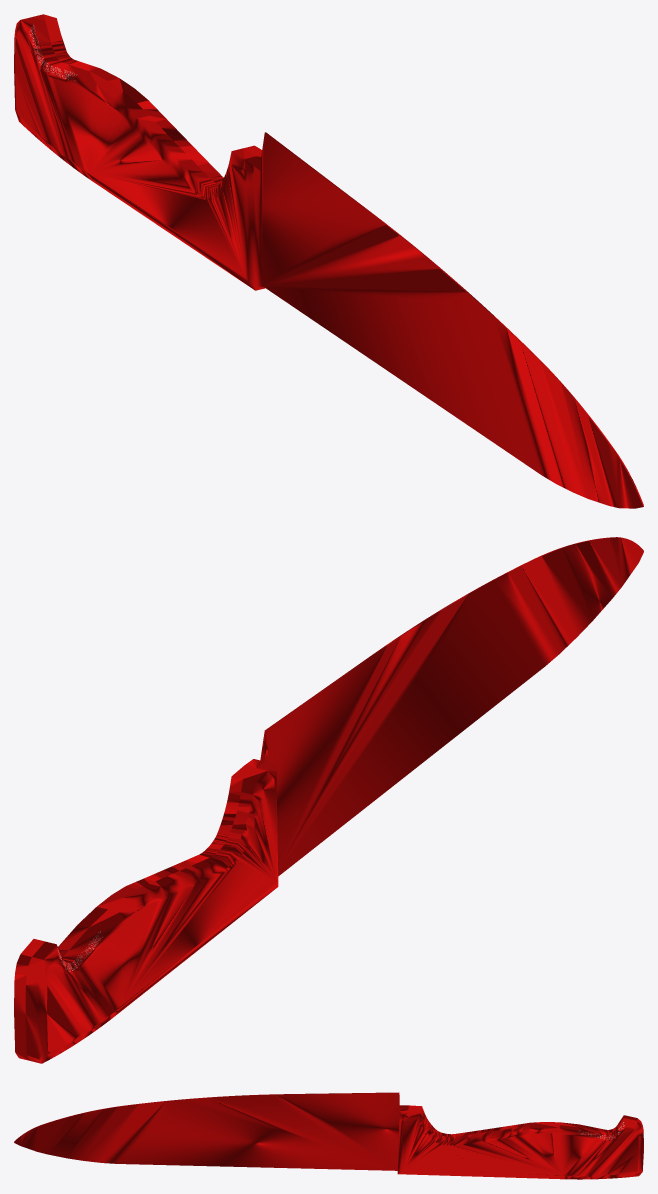
Rendered from model_align.obj.
3 renders of one model, top to bottom at view 1: azimuth 30°, elevation 25°; view 2: azimuth 150°, elevation 25°; view 3: azimuth 270°, elevation 25°, orthographic. The views are drawn at different scales.
Size of the model in its own units: 0.0067 by 0.0332 by 0.2257.
